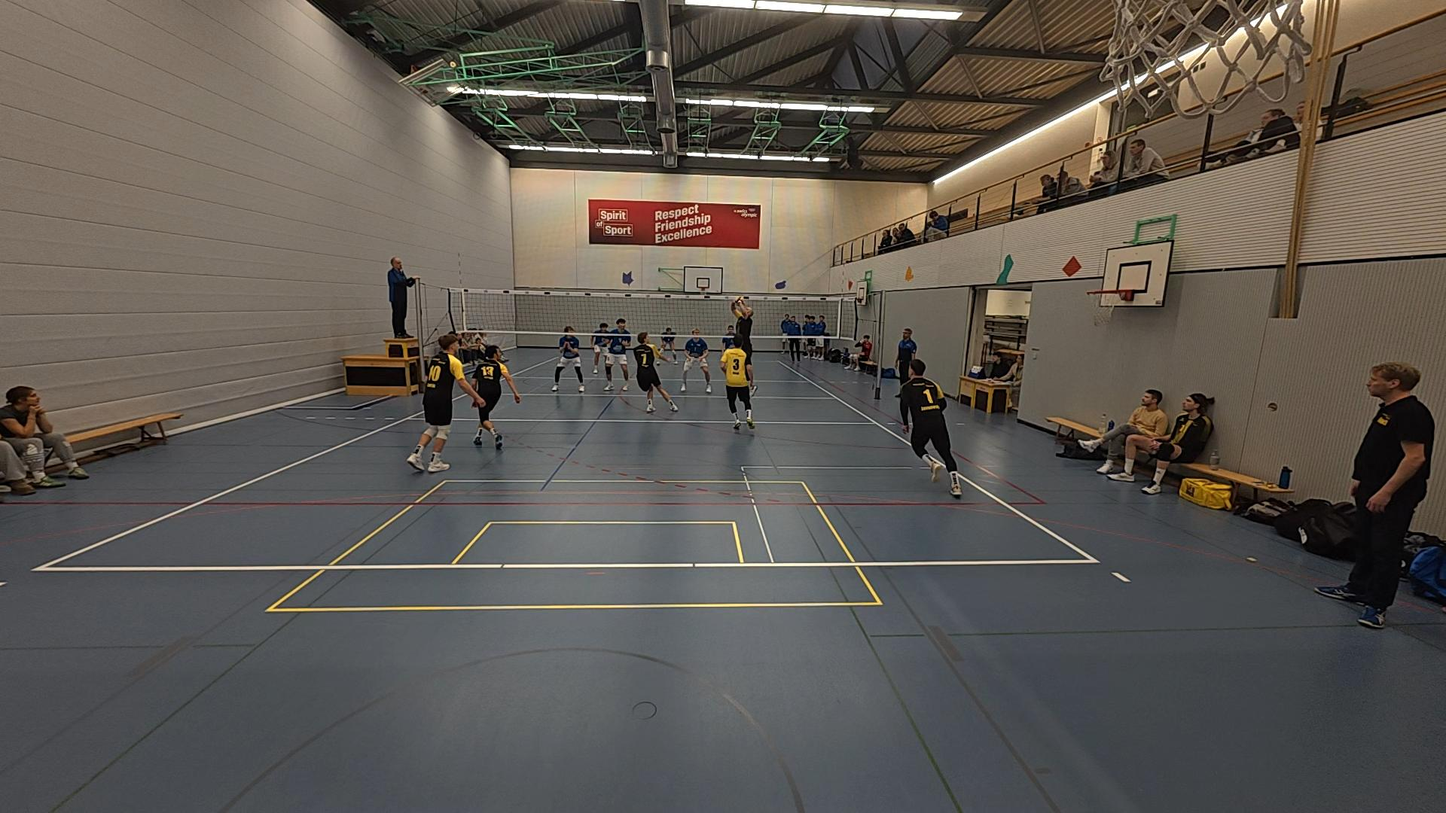alzata: (726, 294, 759, 399)
